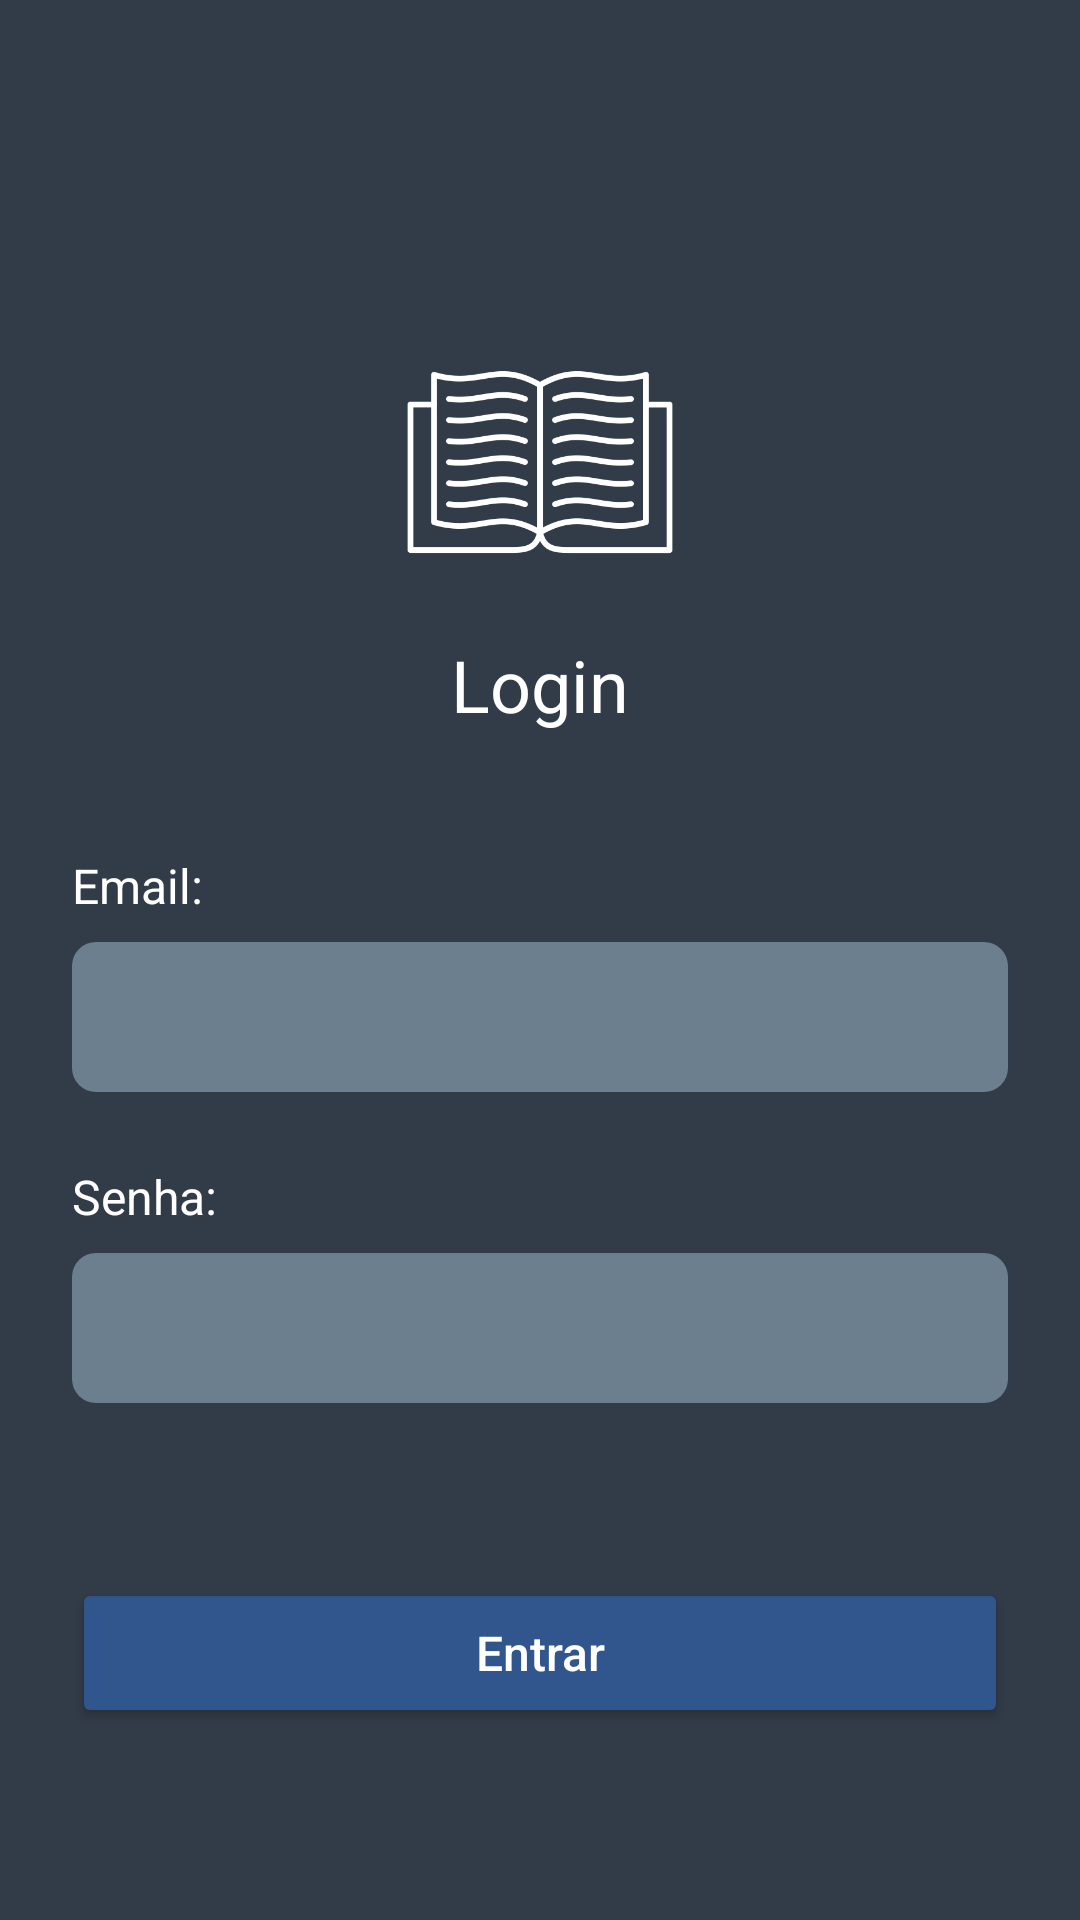

Point at icon controls on the screen. Image size 1080px×1920px, points as (x,y).
book: (540,462)
